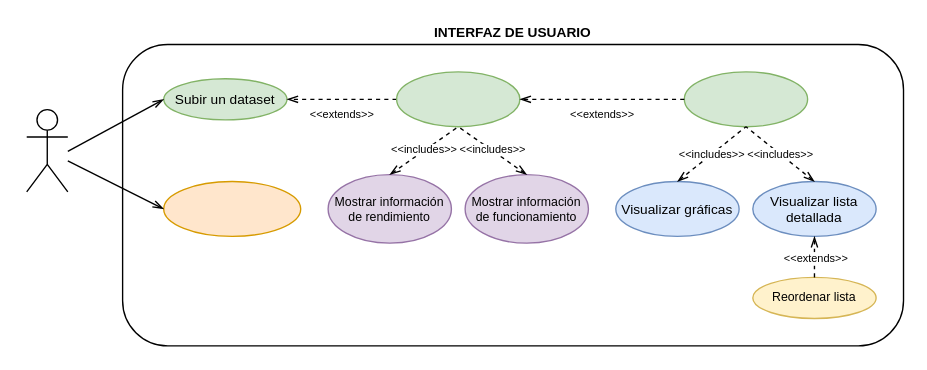
This 927x370 diagram has some shape labels left out. Each missing label, with the box of its shape:
Seleccionar un algoritmo: (395, 71, 520, 127)
Usuario: (25, 108, 68, 192)
Ver ejemplos de datasets: (162, 180, 301, 236)
Visualizar resultados: (683, 71, 808, 127)
